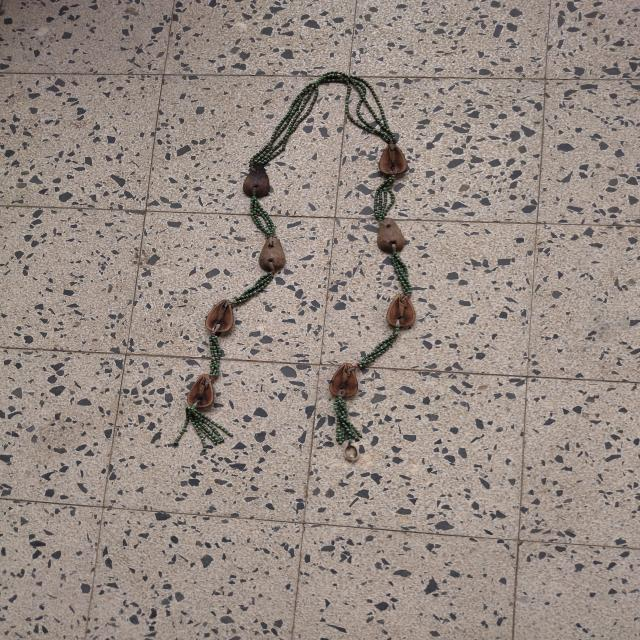facedown: (232, 155, 279, 204), (372, 212, 414, 259), (258, 230, 292, 274)
faceup: (178, 368, 226, 418), (380, 287, 424, 338), (322, 358, 370, 404), (201, 296, 244, 340), (374, 137, 414, 181)
